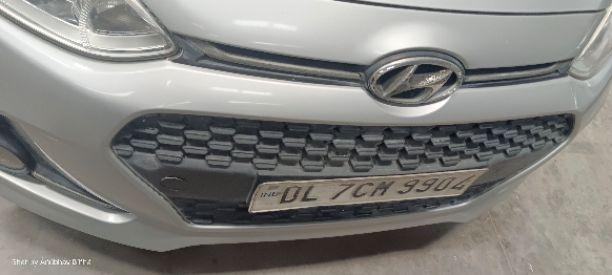license_plate: (0, 0, 611, 253)
